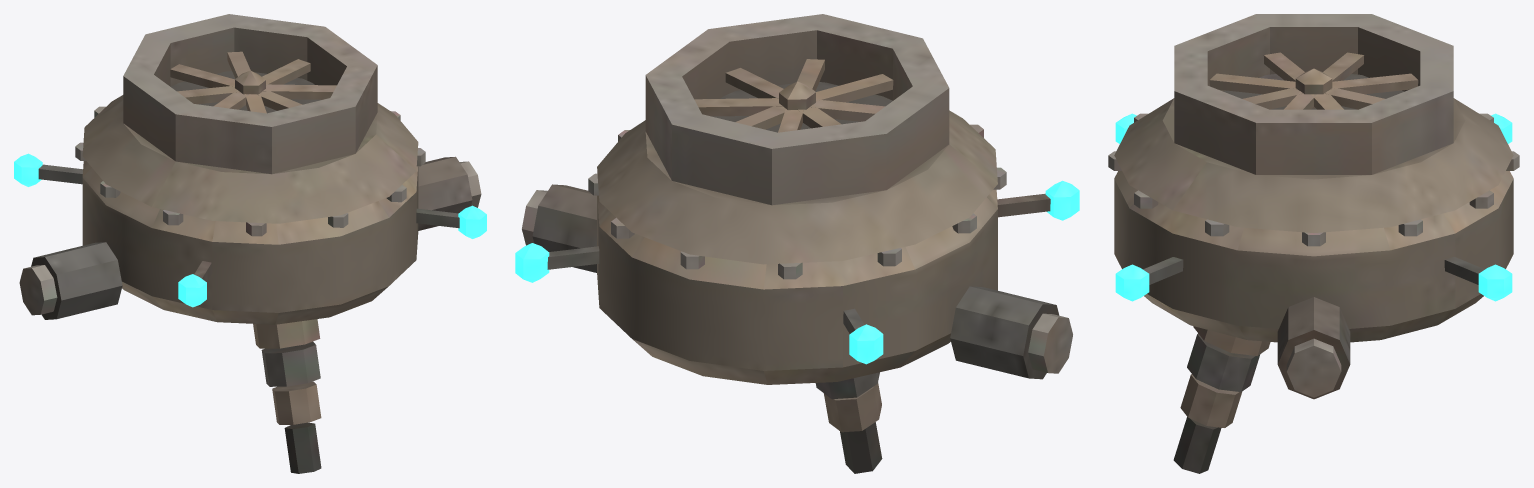
The model's file is distractor.glb.
3 views of the same model, side by side, from view 1: azimuth 30°, elevation 25°; view 2: azimuth 150°, elevation 25°; view 3: azimuth 270°, elevation 25° (orthographic). The views are drawn at different scales.
Visible parts, largest first — view 1: body; view 2: body; view 3: body.
Boxes of the visible parts, box(x1,y1,x2,y2) form: body: box(14, 14, 486, 473); body: box(515, 14, 1079, 473); body: box(1108, 14, 1519, 473).
Size of the model in its own units: 0.928 by 0.7378 by 0.6848.
2 materials, 2 textured.
